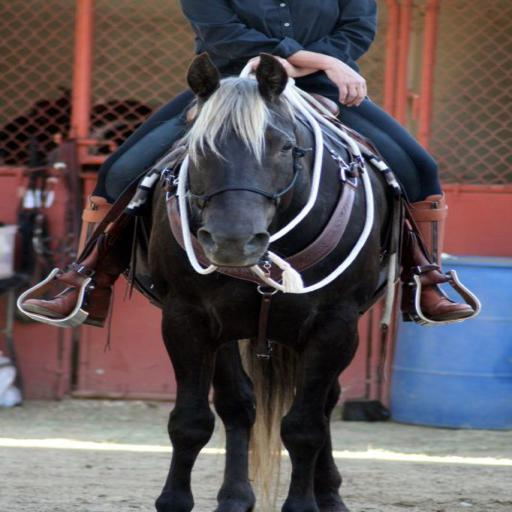Horse: (124, 52, 411, 512)
